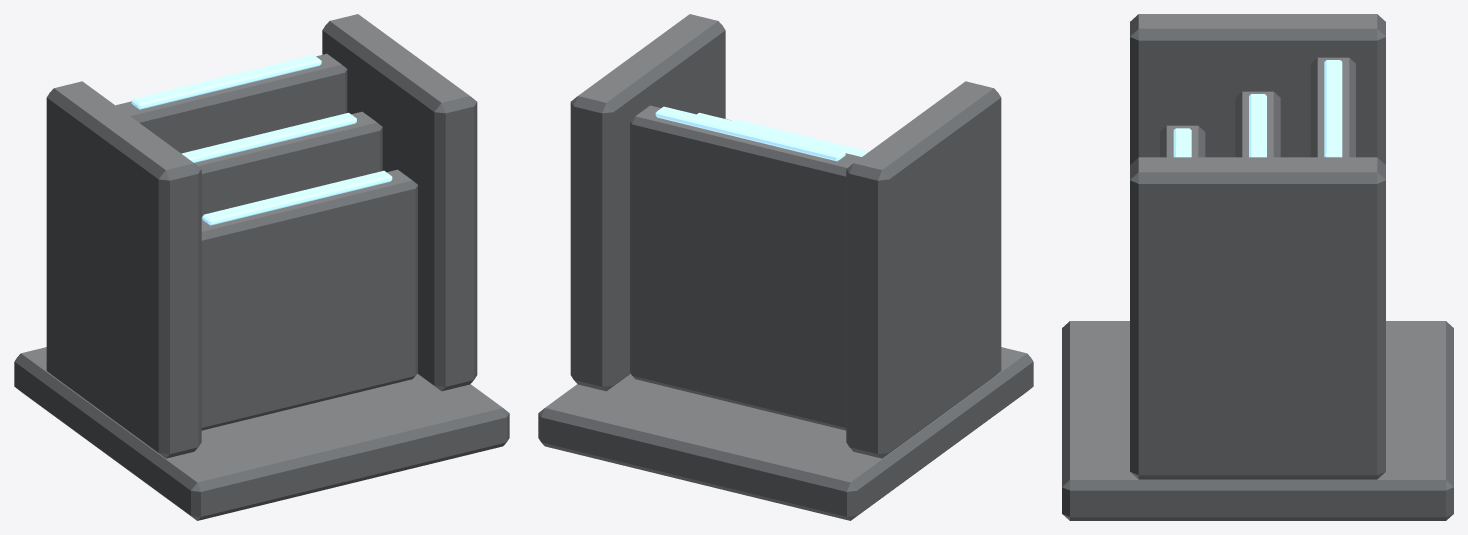
File: R4X_WallDeployer_LOD1.glb
3 views of the same model, side by side, from view 1: azimuth 30°, elevation 25°; view 2: azimuth 150°, elevation 25°; view 3: azimuth 270°, elevation 25° (orthographic). The views are drawn at different scales.
Parts seen in each view (by area): view 1: R4X_WallDeployer_LOD1; view 2: R4X_WallDeployer_LOD1; view 3: R4X_WallDeployer_LOD1.
Part boxes in pixels (left/top/right/bottom): R4X_WallDeployer_LOD1: left=14, top=14, right=509, bottom=520; R4X_WallDeployer_LOD1: left=538, top=14, right=1033, bottom=520; R4X_WallDeployer_LOD1: left=1062, top=14, right=1453, bottom=520.
Bounding box in the file's own units: 0.52 × 0.51 × 0.52.
